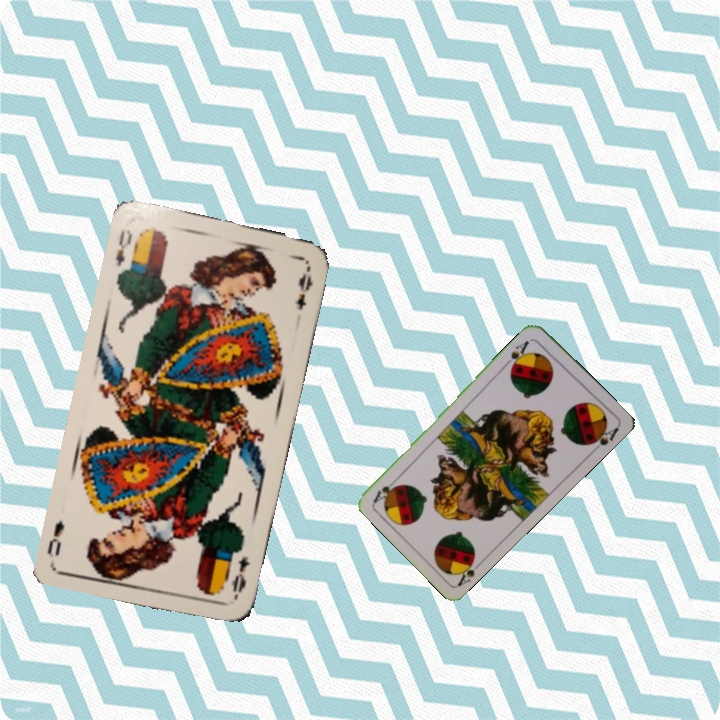EO: (228, 551, 253, 603), (111, 225, 135, 269)
SA: (450, 551, 485, 589), (501, 336, 532, 372)
